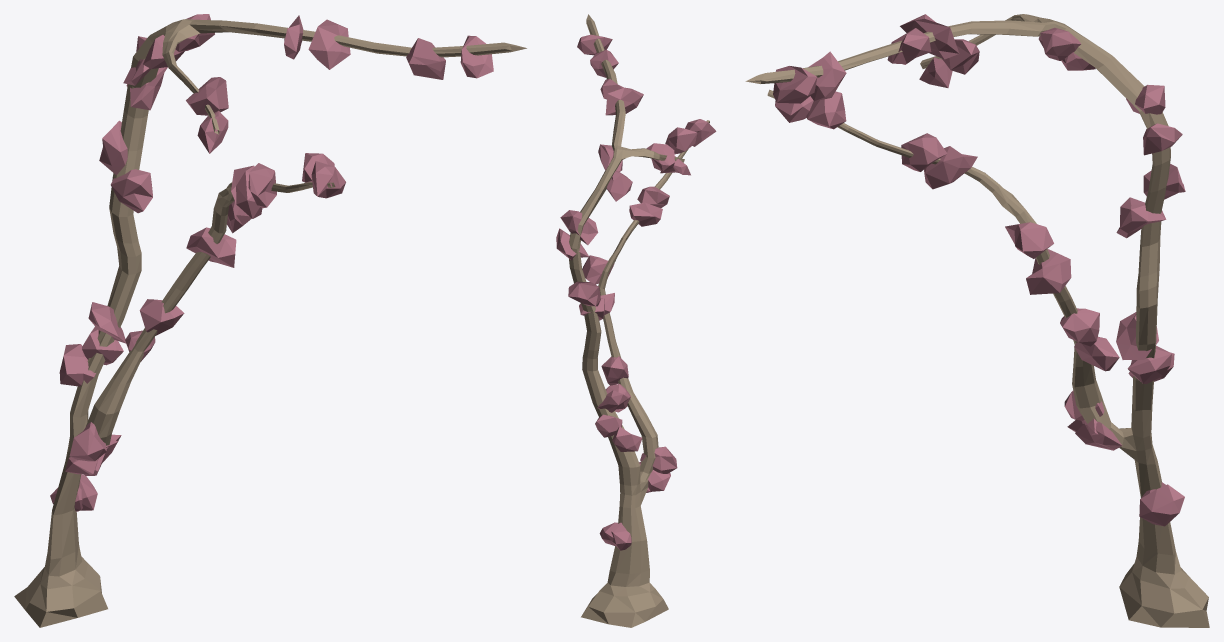
File: bizarretree4.obj
3 renders of one model, left to right at view 1: azimuth 30°, elevation 25°; view 2: azimuth 150°, elevation 25°; view 3: azimuth 270°, elevation 25°, orthographic. The views are drawn at different scales.
Visible parts, largest first — view 1: Windswept_Trunk_A_0, Windswept_Leaves_A_0; view 2: Windswept_Trunk_A_0, Windswept_Leaves_A_0; view 3: Windswept_Leaves_A_0, Windswept_Trunk_A_0.
Part boxes in pixels (x1,y1,x2,y2): Windswept_Trunk_A_0: (14, 19, 526, 627); Windswept_Leaves_A_0: (50, 14, 493, 511); Windswept_Trunk_A_0: (569, 14, 709, 627); Windswept_Leaves_A_0: (556, 34, 716, 550); Windswept_Leaves_A_0: (773, 14, 1185, 526); Windswept_Trunk_A_0: (745, 14, 1209, 627).
Bounding box in the file's own units: 5.88 × 12.16 × 7.71.
